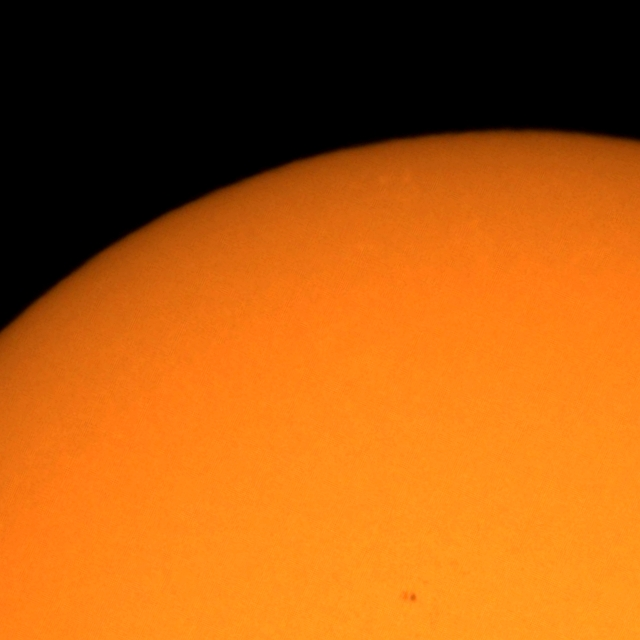sunspot: (398, 590, 419, 605)
